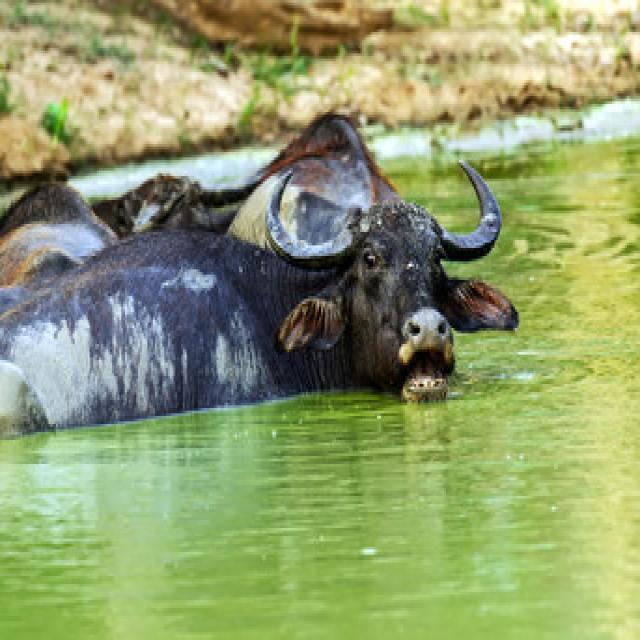Buffalo: (0, 107, 521, 443)
